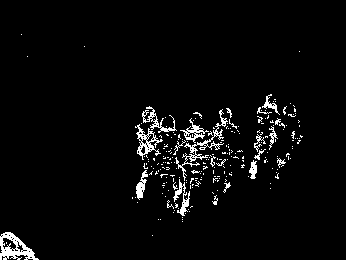person: (179, 110, 212, 216), (211, 107, 242, 208), (247, 91, 280, 183), (137, 106, 164, 201), (273, 101, 303, 182), (156, 113, 181, 209)
